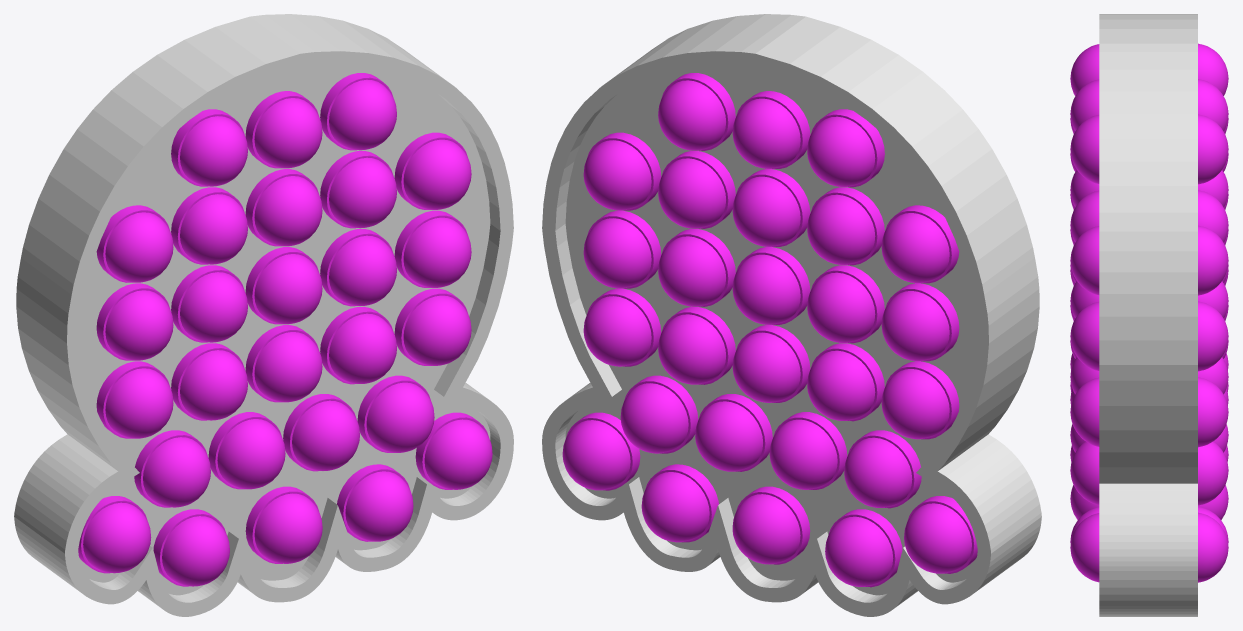
The picture shows the model from 3 angles, left to right: view 1: azimuth 30°, elevation 25°; view 2: azimuth 150°, elevation 25°; view 3: azimuth 270°, elevation 25°; orthographic projection. The views are drawn at different scales.
Parts seen in each view (by area): view 1: Extrude.009, Sphere.878, Sphere.856, Sphere.860, Sphere.864, Sphere.870, Sphere.874, Sphere.879, Sphere.859, Sphere.869, Sphere.873, Sphere.881 (+43 smaller); view 2: Extrude.009, Sphere.830, Sphere.834, Sphere.839, Sphere.849, Sphere.844, Sphere.831, Sphere.832, Sphere.835, Sphere.842, Sphere.845, Sphere.850 (+43 smaller); view 3: Extrude.009, Sphere.836, Sphere.846, Sphere.831, Sphere.847, Sphere.841, Sphere.863, Sphere.873, Sphere.878, Sphere.858, Sphere.868, Sphere.851 (+15 smaller).
Boxes of the visible parts, x1,y1,x2,y2 form: Extrude.009: (14, 14, 513, 616); Sphere.878: (424, 419, 492, 489); Sphere.856: (180, 116, 247, 186); Sphere.860: (180, 194, 247, 264); Sphere.864: (105, 290, 173, 360); Sphere.870: (180, 350, 247, 420); Sphere.874: (143, 437, 210, 507); Sphere.879: (345, 471, 413, 541); Sphere.859: (105, 212, 173, 282); Sphere.869: (105, 368, 173, 438); Sphere.873: (403, 295, 471, 365); Sphere.881: (162, 516, 229, 586); Extrude.009: (542, 14, 1041, 616); Sphere.830: (732, 98, 800, 168); Sphere.834: (732, 176, 800, 246); Sphere.839: (732, 254, 800, 324); Sphere.849: (769, 419, 837, 489); Sphere.844: (732, 332, 800, 402); Sphere.831: (658, 80, 725, 150); Sphere.832: (881, 213, 949, 283); Sphere.835: (658, 158, 725, 228); Sphere.842: (881, 369, 949, 439); Sphere.845: (658, 314, 725, 384); Sphere.850: (695, 401, 762, 471); Extrude.009: (1099, 14, 1197, 616); Sphere.836: (1198, 225, 1228, 295); Sphere.846: (1198, 377, 1228, 447); Sphere.831: (1198, 114, 1228, 184); Sphere.847: (1198, 512, 1228, 582); Sphere.841: (1198, 301, 1228, 371); Sphere.863: (1070, 226, 1099, 294); Sphere.873: (1070, 377, 1099, 446); Sphere.878: (1070, 513, 1099, 582); Sphere.858: (1070, 115, 1099, 183); Sphere.868: (1070, 302, 1099, 370); Sphere.851: (1198, 441, 1228, 505).
Size of the model in its own units: 18.08 by 20.99 by 5.67.
